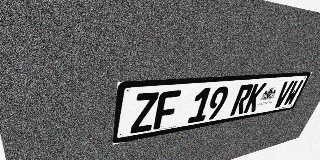1: (187, 87, 214, 124)
9: (205, 86, 231, 120)
F: (153, 90, 181, 130)
K: (243, 83, 267, 113)
R: (230, 84, 254, 116)
V: (272, 80, 295, 108)
W: (282, 80, 304, 106)
Z: (130, 92, 159, 134)
